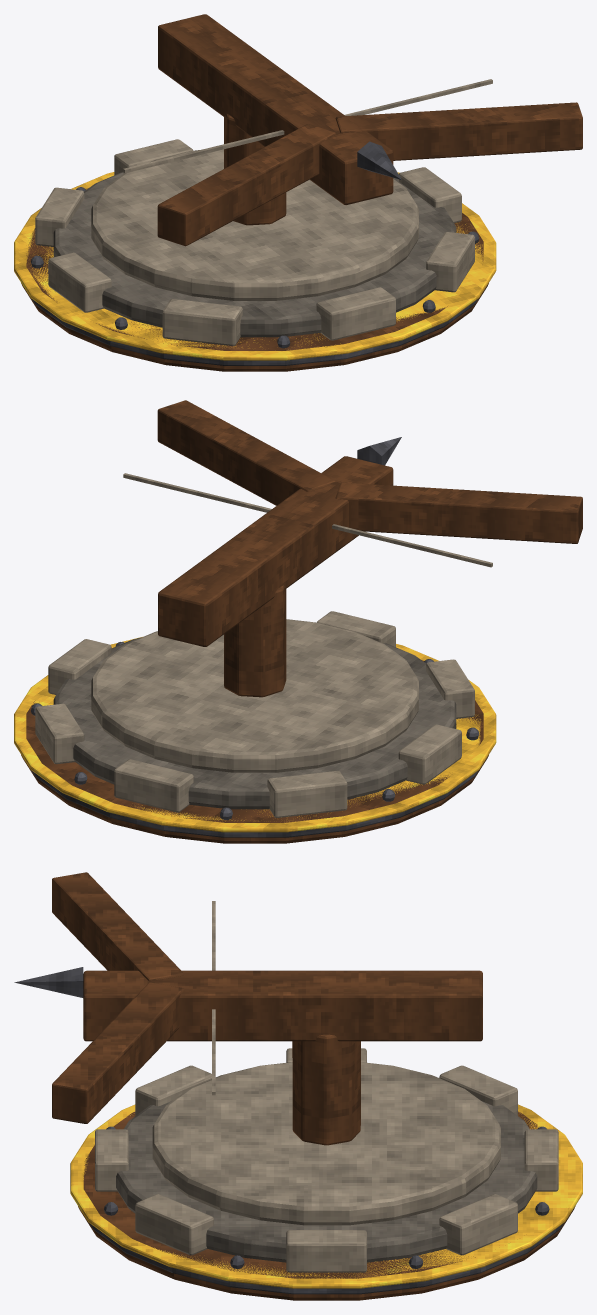
Rendered from top_round.gltf.
3 views of the same model, one above another, from view 1: azimuth 30°, elevation 25°; view 2: azimuth 150°, elevation 25°; view 3: azimuth 270°, elevation 25° (orthographic). The views are drawn at different scales.
Visible parts, largest first — view 1: Crown_wood, Crown_stone_lite, Tier3_stone_lite, Crown_stone, Tier4_gold, Tier2_iron, Crown_iron; view 2: Crown_wood, Crown_stone_lite, Tier3_stone_lite, Crown_stone, Tier4_gold, Tier2_iron, Crown_iron; view 3: Crown_wood, Crown_stone_lite, Tier3_stone_lite, Crown_stone, Tier4_gold, Tier2_iron, Crown_iron.
Boxes of the visible parts, <box> form: Crown_wood: <box>21,14,582,371</box>; Crown_stone_lite: <box>91,79,492,300</box>; Tier3_stone_lite: <box>35,139,474,346</box>; Crown_stone: <box>53,172,456,337</box>; Tier4_gold: <box>14,172,496,360</box>; Tier2_iron: <box>31,187,479,365</box>; Crown_iron: <box>357,141,401,179</box>; Crown_wood: <box>21,400,582,843</box>; Crown_stone_lite: <box>91,473,492,772</box>; Tier3_stone_lite: <box>35,611,474,817</box>; Crown_stone: <box>53,637,456,809</box>; Tier4_gold: <box>14,637,496,832</box>; Tier2_iron: <box>31,642,479,837</box>; Crown_iron: <box>357,437,401,465</box>; Crown_wood: <box>52,872,575,1300</box>; Crown_stone_lite: <box>152,901,500,1225</box>; Tier3_stone_lite: <box>95,1048,558,1272</box>; Crown_stone: <box>116,1101,537,1262</box>; Tier4_gold: <box>70,1104,582,1288</box>; Tier2_iron: <box>89,1126,563,1294</box>; Crown_iron: <box>14,967,83,997</box>.
Bounding box in the file's own units: 1.07 × 0.528 × 1.18.
Materials: 6 (6 with a texture image).
